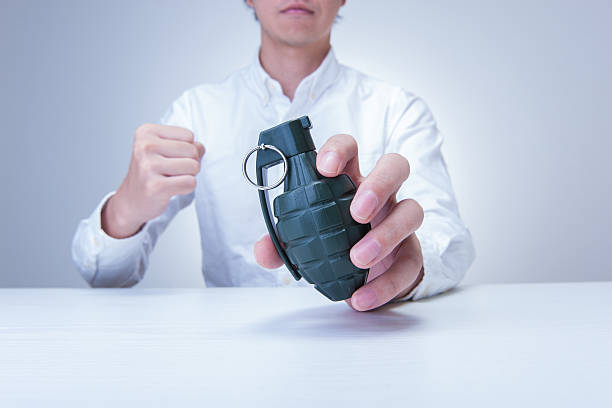e1: (243, 116, 374, 303)
